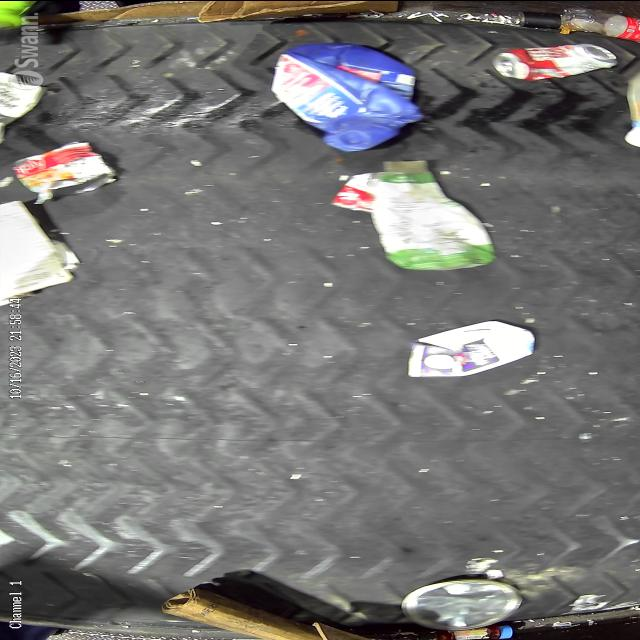can: (10, 140, 120, 202), (490, 42, 620, 81)
non_white_jug: (269, 39, 427, 152)
plastic_bottle: (556, 6, 640, 44)
